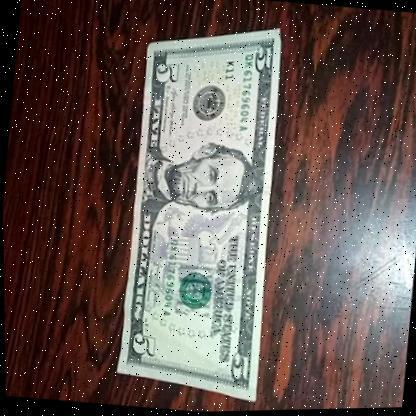five-front: (106, 14, 295, 398)
